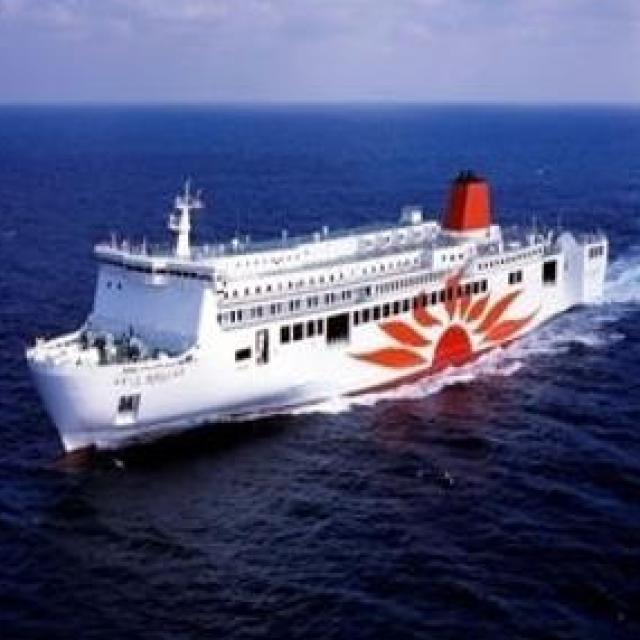passenger ship: (24, 162, 619, 452)
